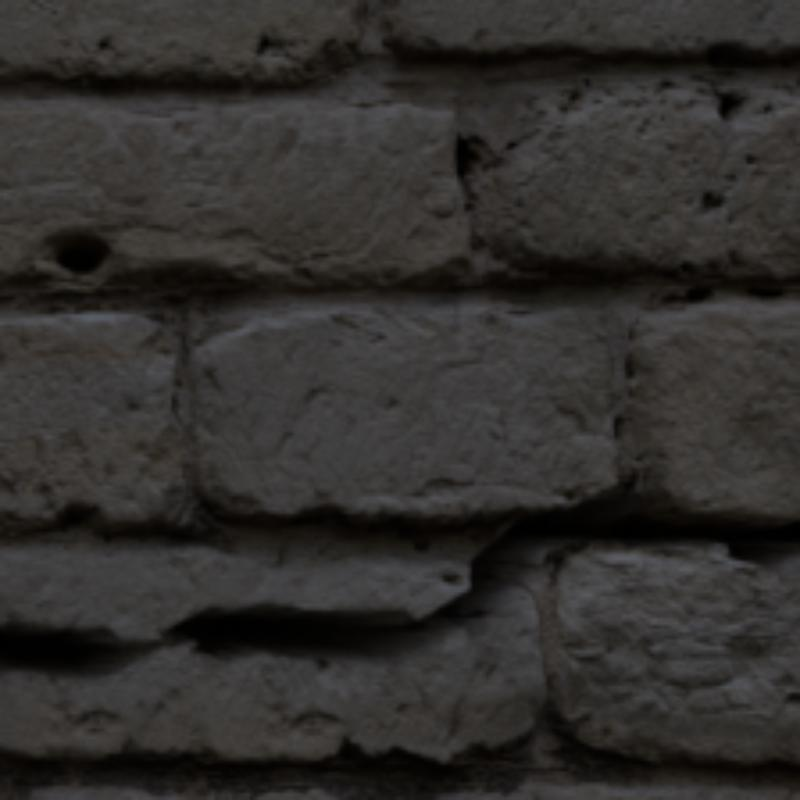pothole: (0, 489, 796, 679)
